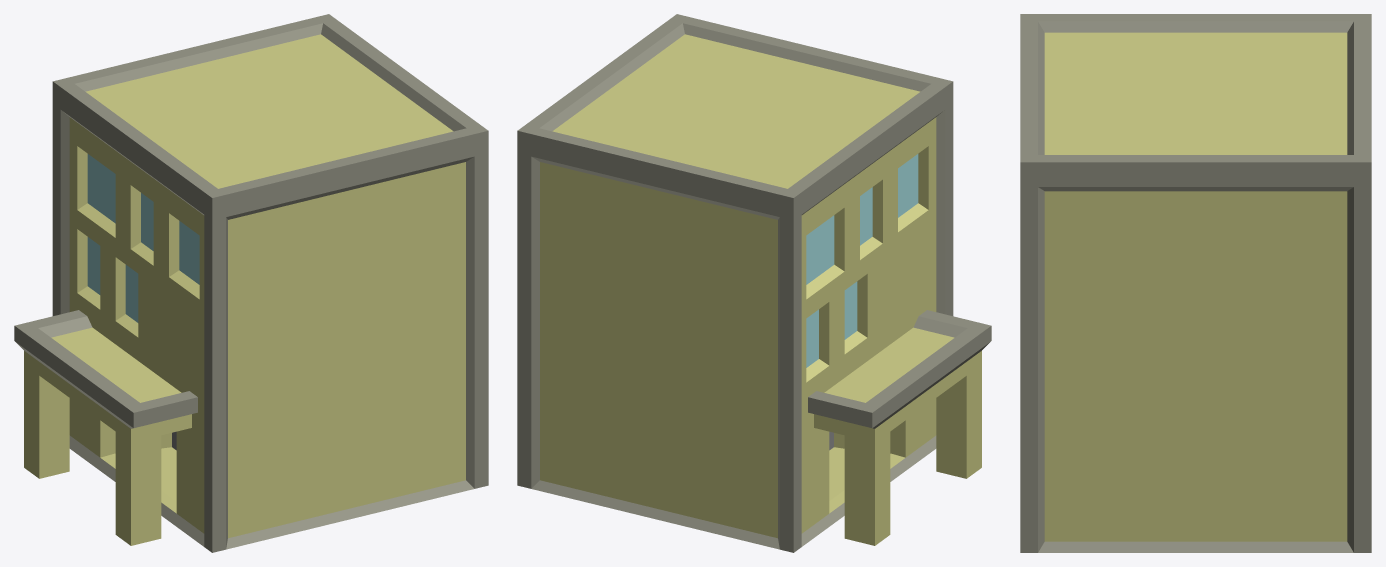
File: double_building.fbx
The picture shows the model from 3 angles, left to right: view 1: azimuth 30°, elevation 25°; view 2: azimuth 150°, elevation 25°; view 3: azimuth 270°, elevation 25°; orthographic projection. The views are drawn at different scales.
Visible parts, largest first — view 1: double_building; view 2: double_building; view 3: double_building.
Boxes of the visible parts, x1=… form: double_building: x1=14, y1=14, x2=488, y2=552; double_building: x1=517, y1=14, x2=991, y2=552; double_building: x1=1020, y1=14, x2=1371, y2=552.
Bounding box in the file's own units: 12.65 × 12.82 × 10.44.
